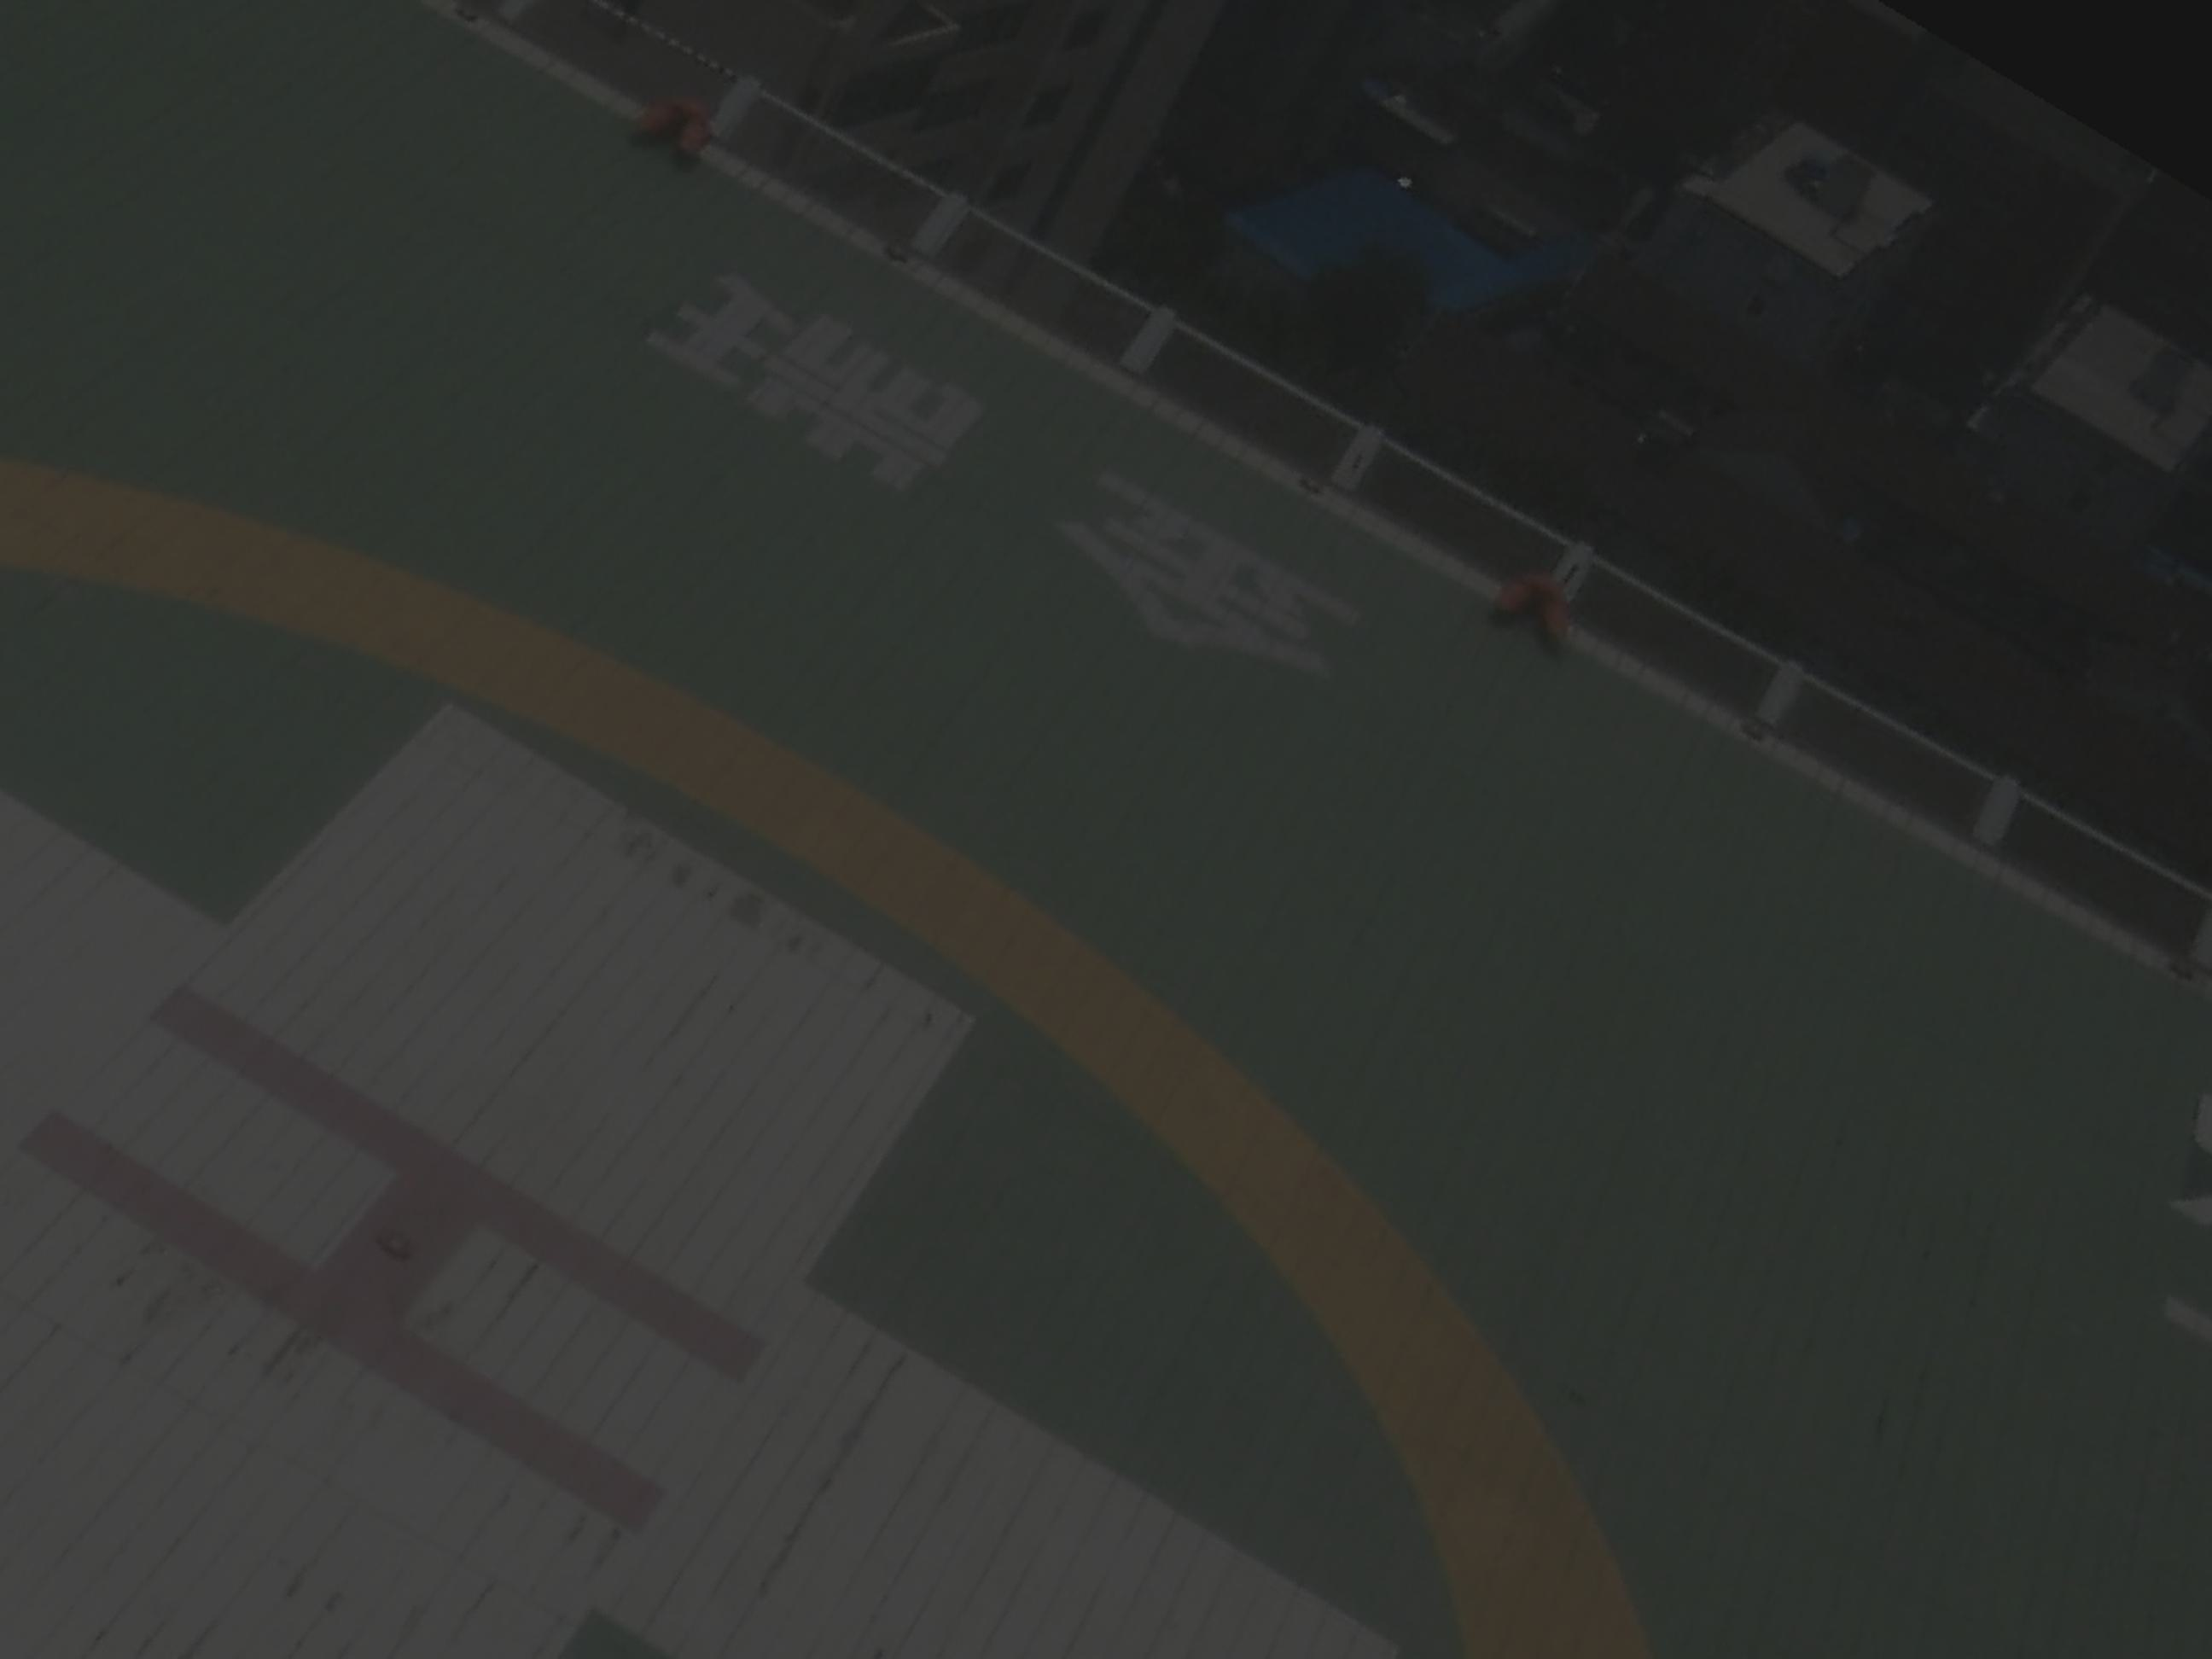Apron: (12, 406, 1676, 1649)
